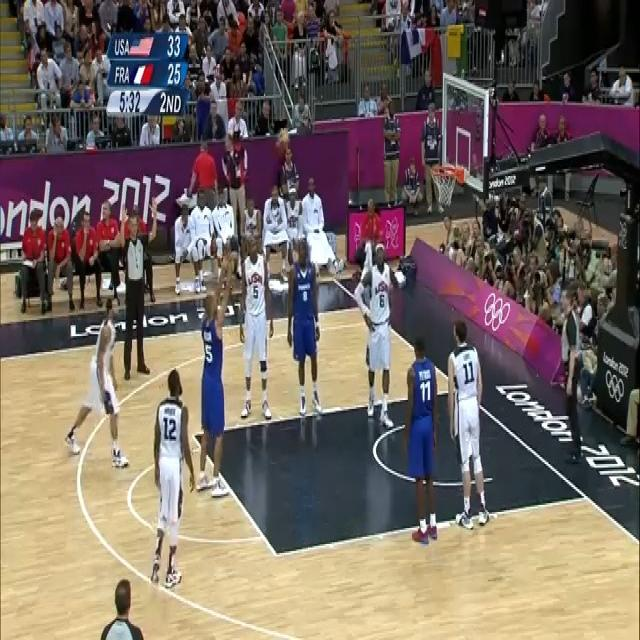basketball: (279, 126, 290, 151)
hoop: (432, 164, 458, 208)
